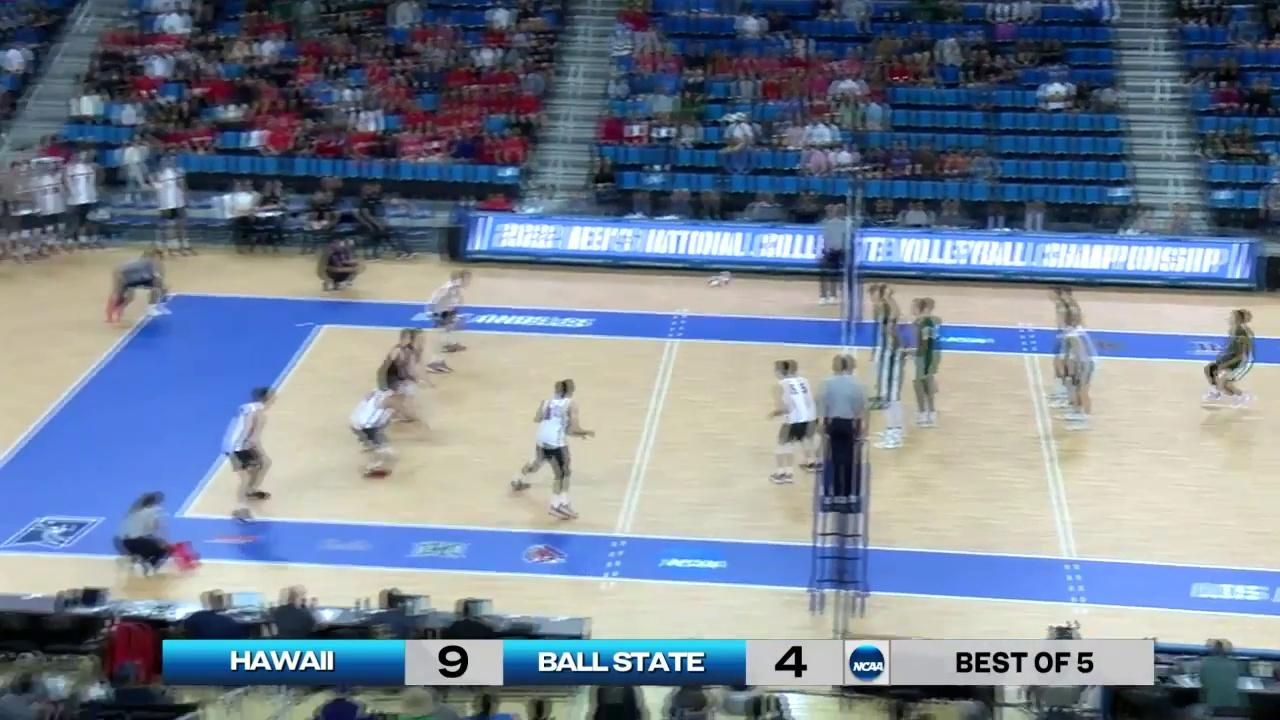player: (510, 380, 593, 520), (219, 388, 279, 525), (768, 359, 819, 482), (907, 297, 951, 430), (348, 375, 404, 478), (370, 331, 423, 431), (1201, 311, 1254, 408), (1046, 283, 1086, 409), (1056, 312, 1098, 431), (416, 268, 472, 357), (876, 325, 907, 449), (869, 284, 899, 407)
refree: (113, 489, 202, 585), (819, 354, 868, 506), (105, 248, 175, 320), (819, 204, 854, 306)
